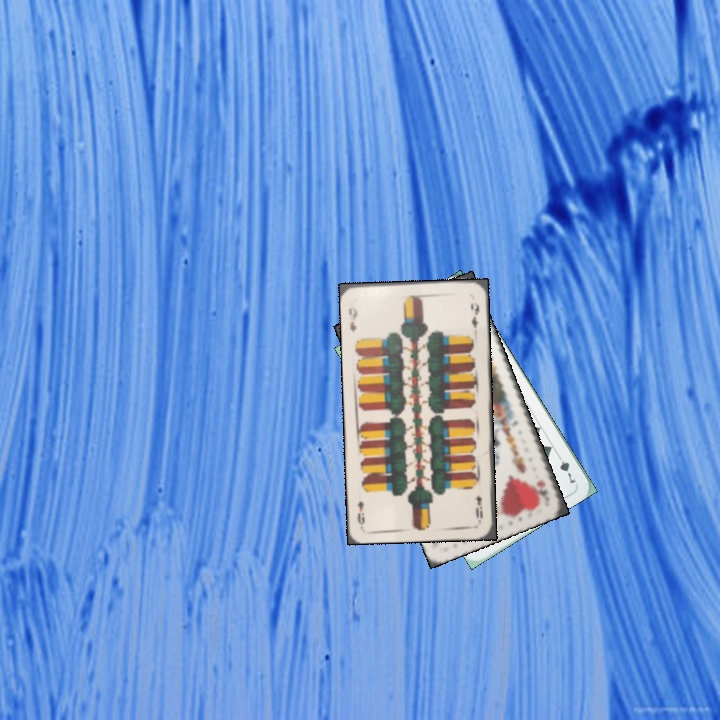E9: (345, 298, 360, 334), (471, 491, 485, 523)
G7: (553, 449, 578, 486)
HK: (533, 476, 550, 500)
